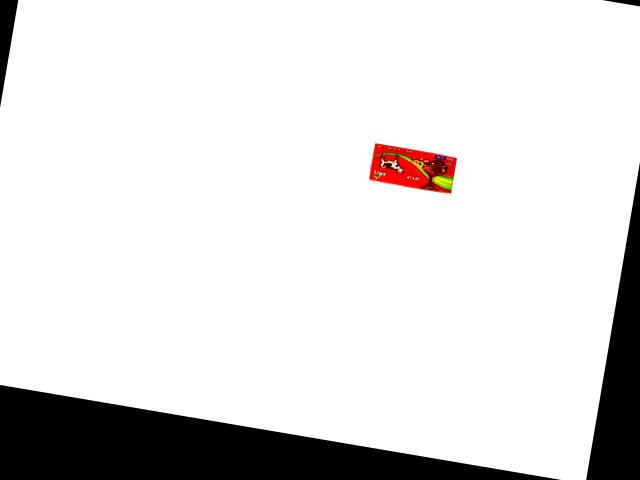chocolate: (362, 134, 460, 196)
